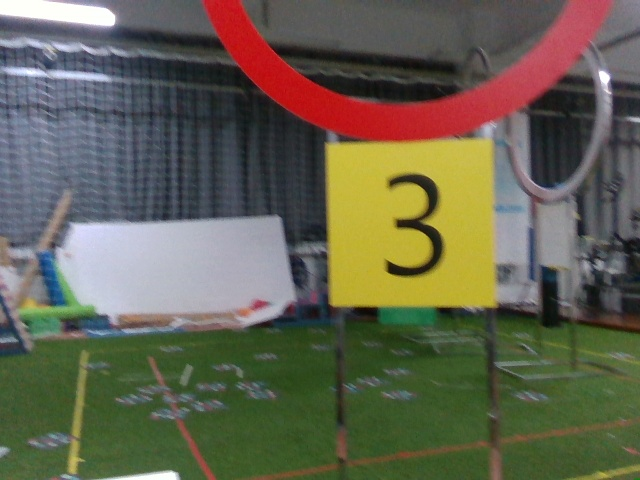target: (337, 148, 485, 304)
